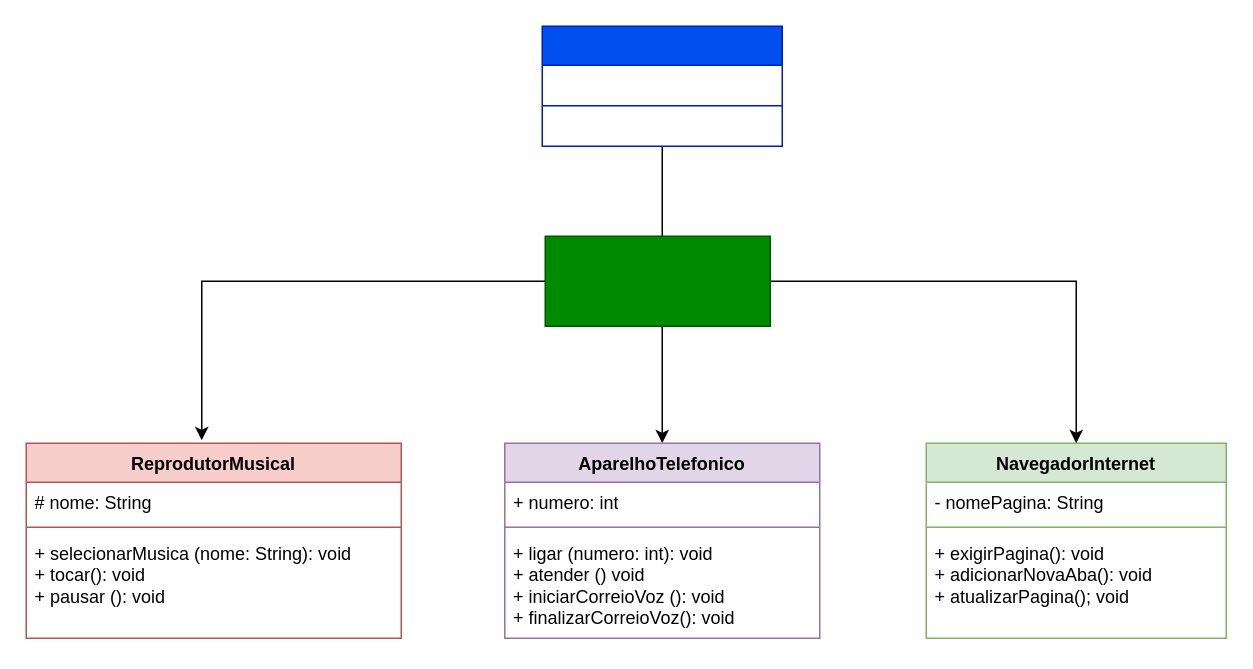
The diagram is 1253 pixels wide and 669 high, and some of its shapes have lost their labels. Here are the shapes that lost their labels. From the top down, the centre of each, then its label:
(661,85): IPhone
(657,280): Sistema Operacional
